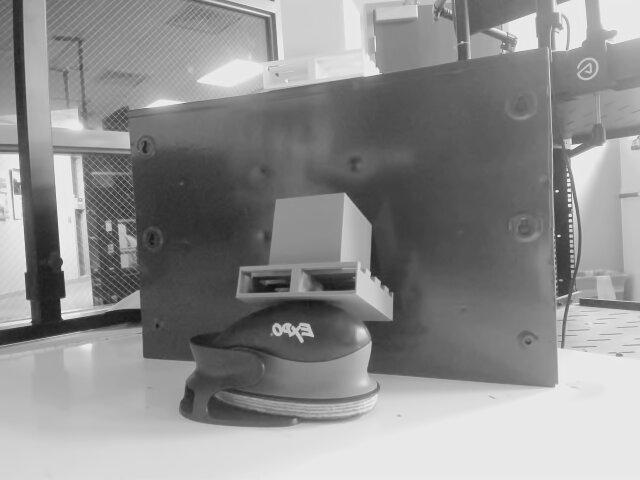grey pallet: (232, 181, 398, 326)
white pallet: (260, 0, 397, 100)
